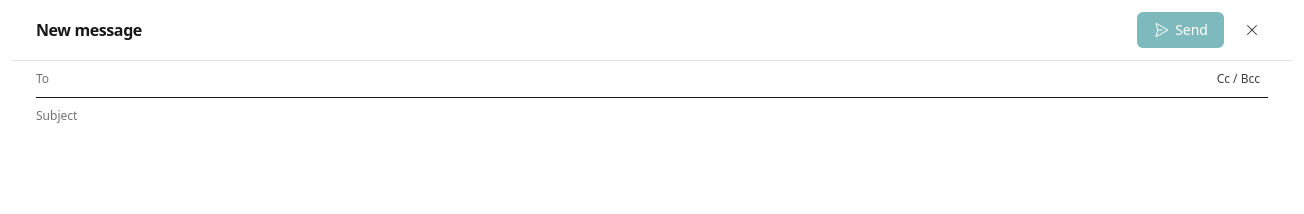
Scenario: addressing › sends with only a blind copy
The image size is (1304, 214).
Click the button with test id "composer-show-copies". click: point(1238, 79)
box: [1209,67,1268,91]
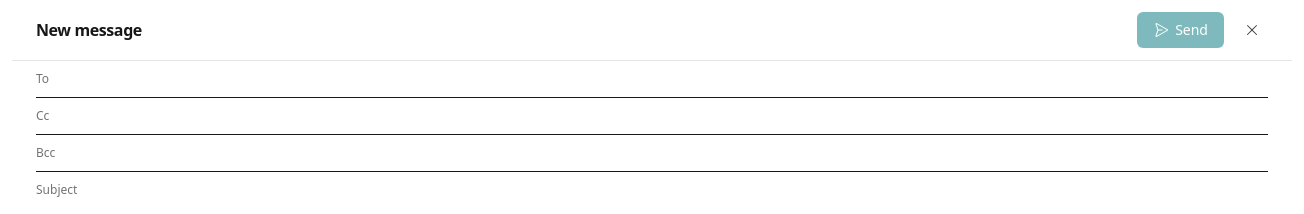
Type "herkes@example.com" into the field with test id "composer-bcc". click: point(690, 153)
box: [112,135,1268,171]
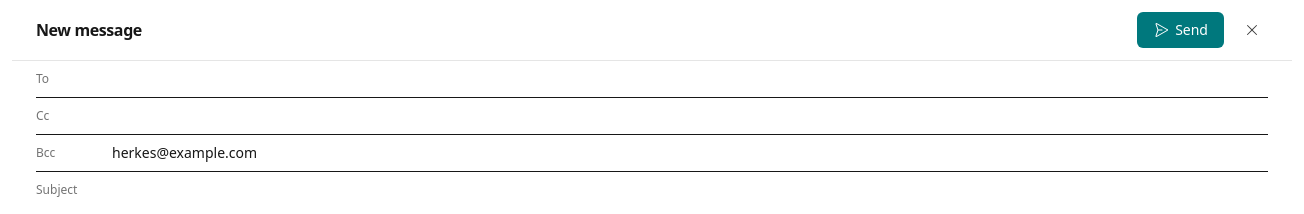
Expected: the button with test id "composer-send" is enabled, [1137,12,1224,48]
